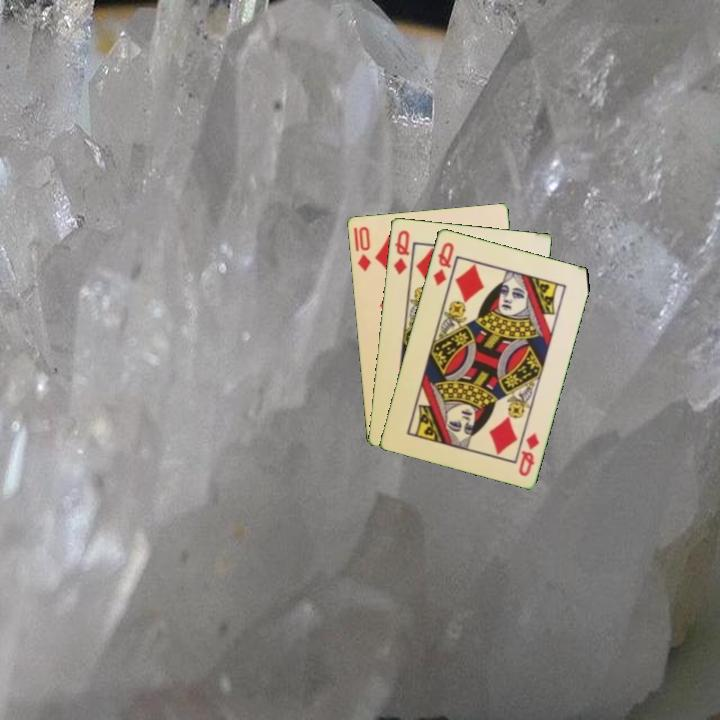10d: (354, 223, 374, 274)
Qd: (429, 238, 457, 288), (515, 429, 542, 479), (390, 226, 412, 277)
